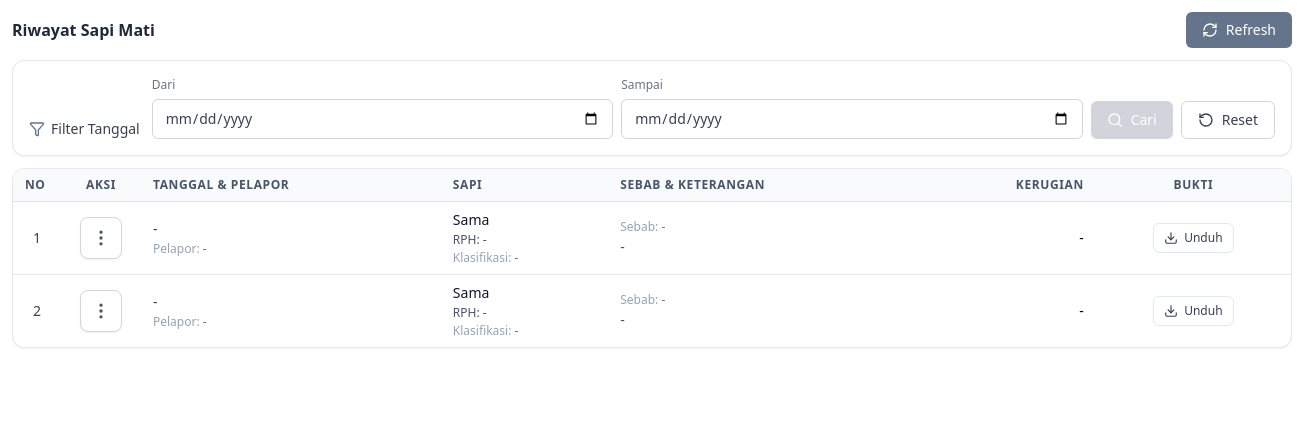
Test: event tab uses event PID, preserves operations 1
The image size is (1304, 421).
Click the 2nd button named "Menu Aksi": (101, 311) top-left (80, 290), bottom-right (122, 332)
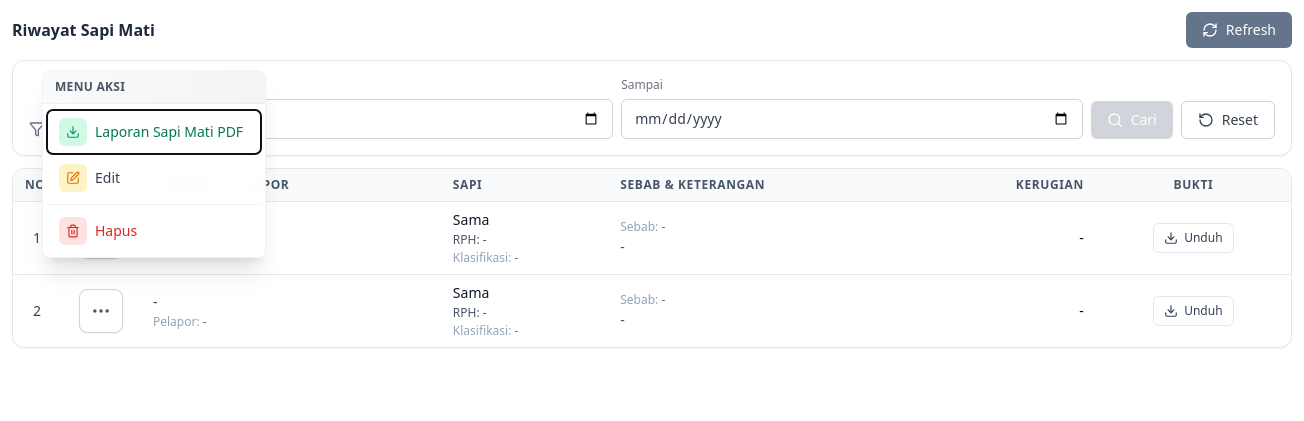
Expected: the text "Edit" is shown, top-left (95, 168), bottom-right (120, 187)
Expected: the text "Hapus" is shown, top-left (95, 221), bottom-right (137, 240)
Click the menu item "Laporan Sapi Mati PDF": (154, 132) top-left (47, 110), bottom-right (261, 154)
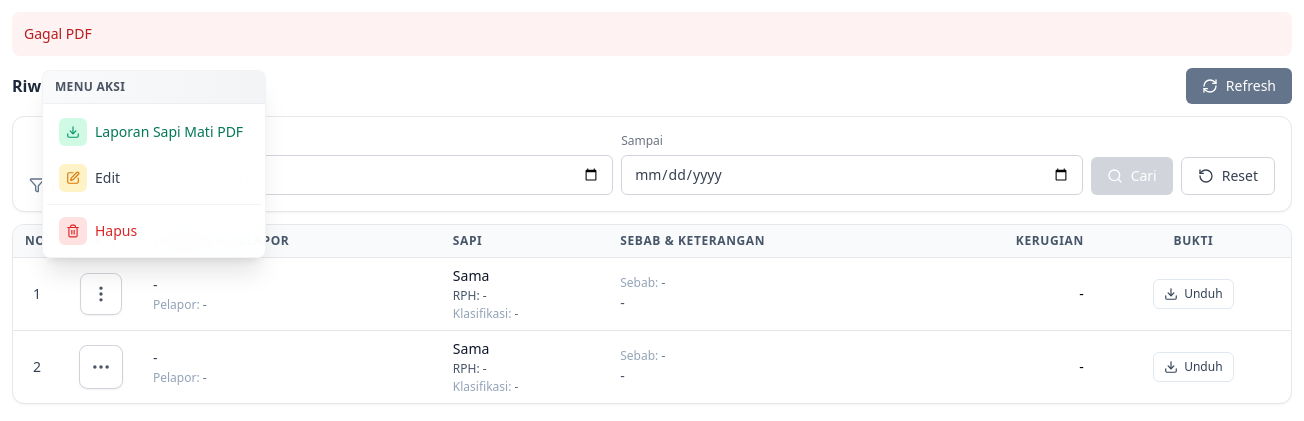
Expected: the number of buttons named "Unduh bukti kematian Sama" is 2, top-left (1153, 279), bottom-right (1234, 309); top-left (1153, 352), bottom-right (1234, 382)
Expected: the message reads "Gagal PDF", top-left (24, 24), bottom-right (92, 43)
